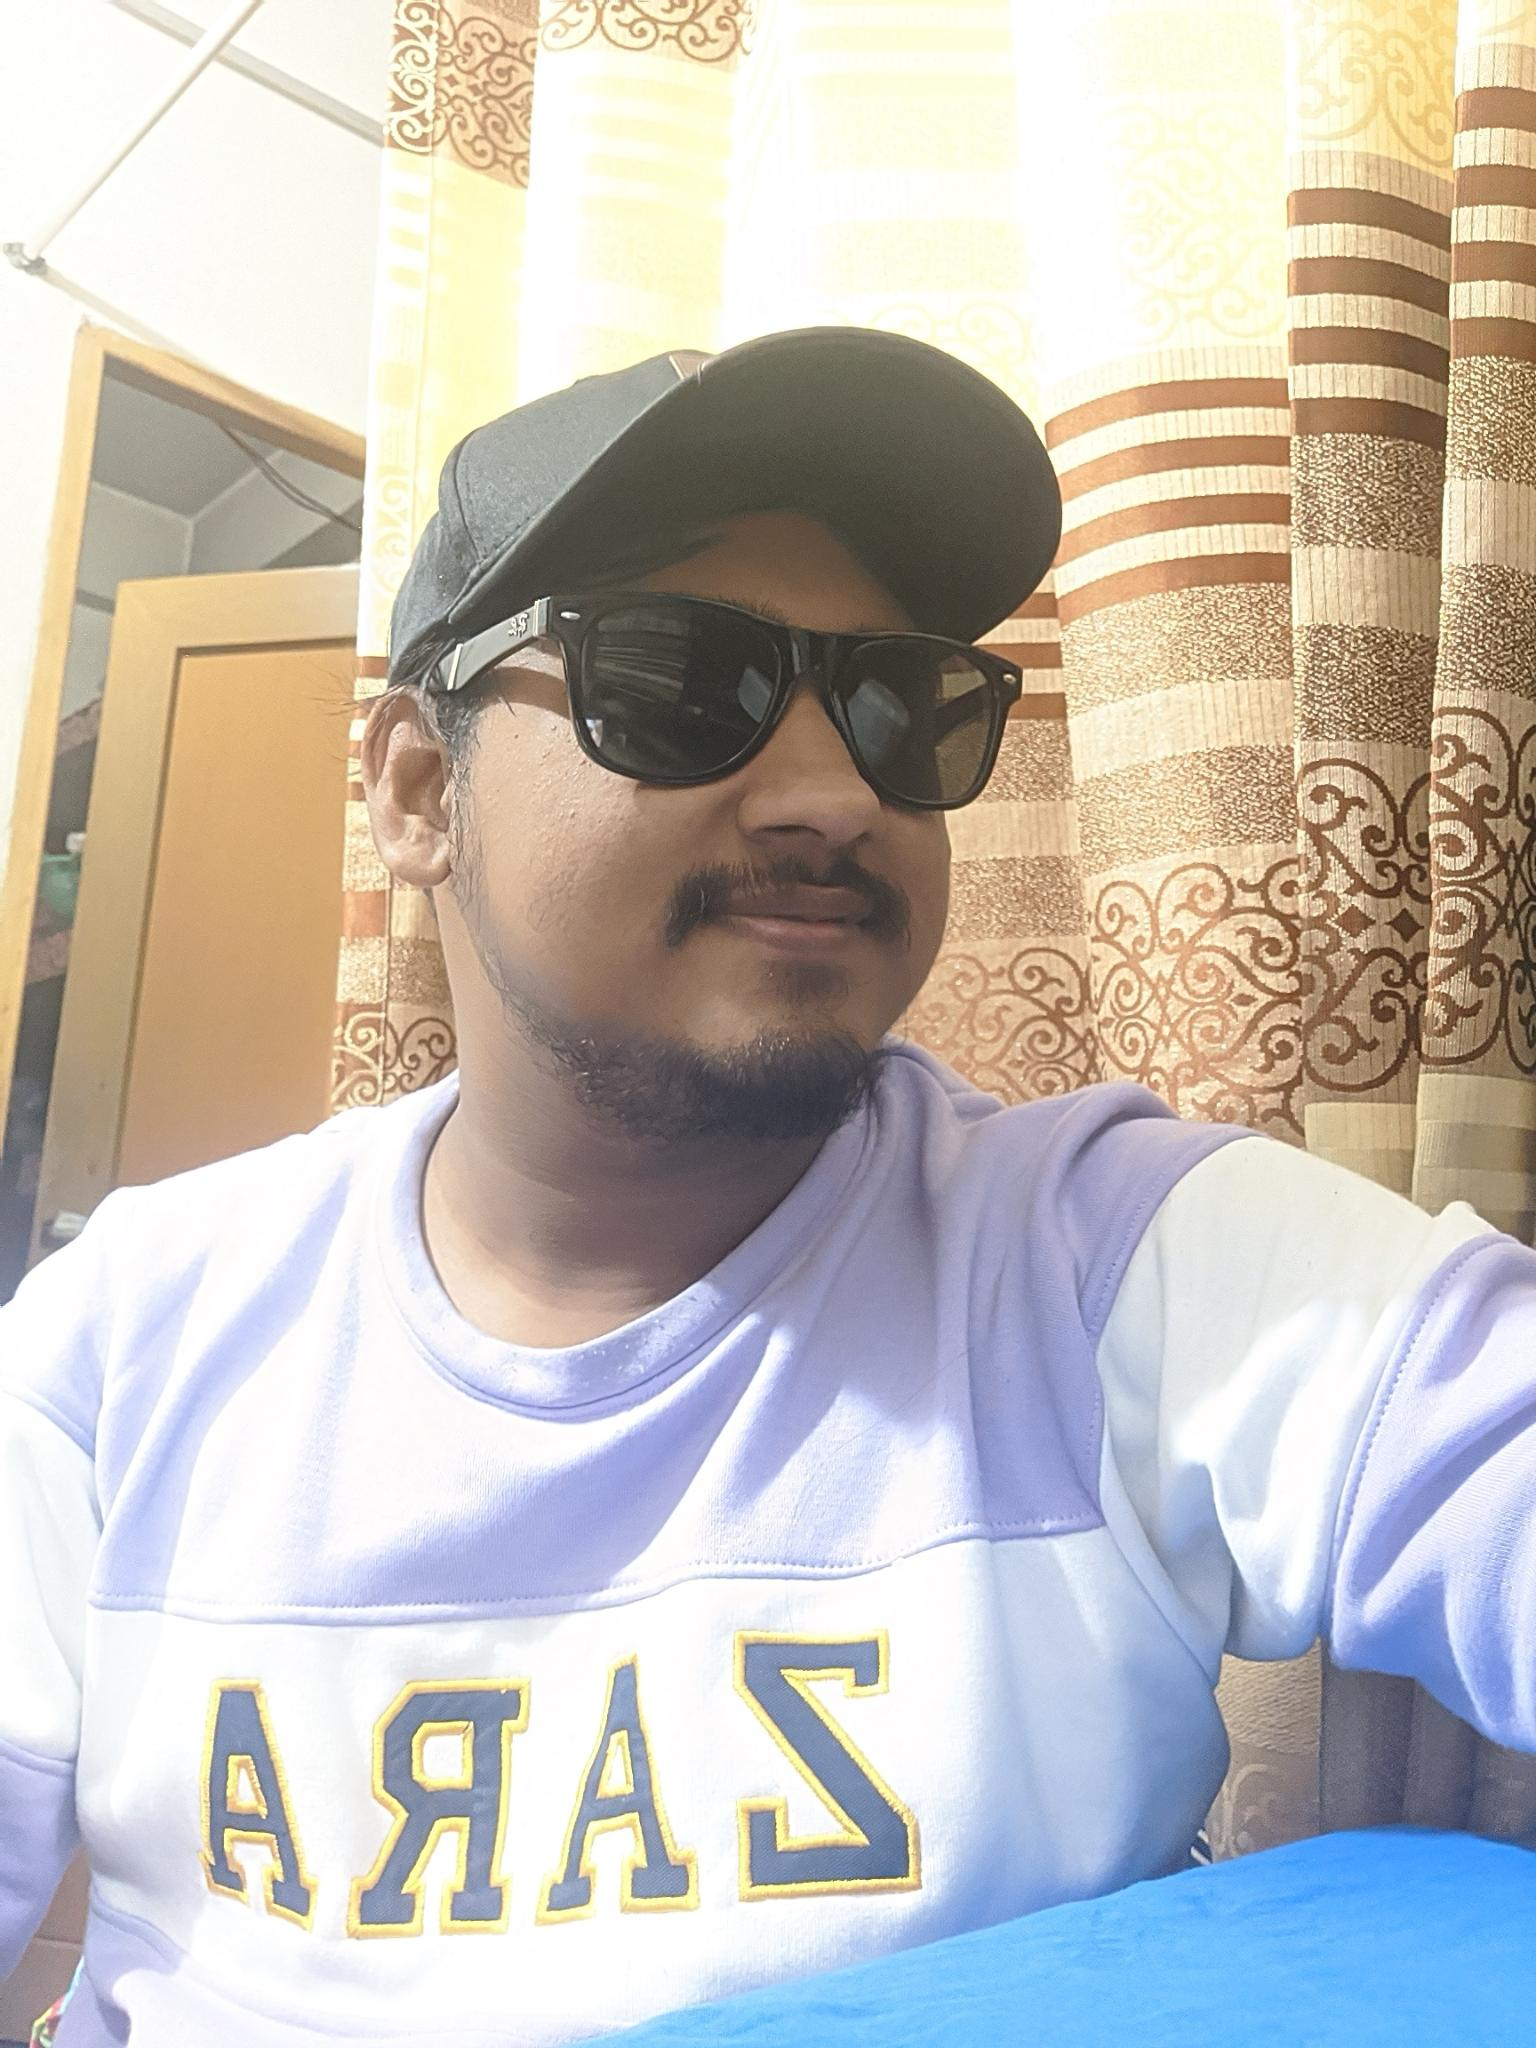Happy: (534, 587, 984, 1090)
